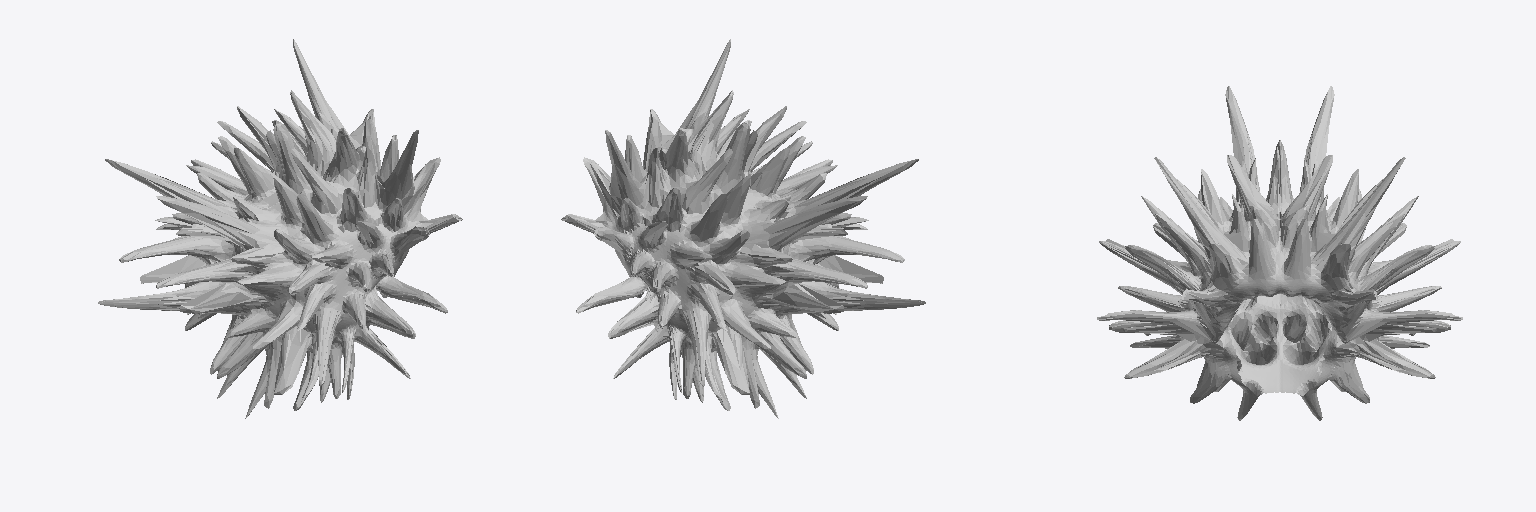
Rendered from hairgirl[hair1].obj.
3 renders of one model, left to right at view 1: azimuth 30°, elevation 25°; view 2: azimuth 150°, elevation 25°; view 3: azimuth 270°, elevation 25°, orthographic.
Visible parts, largest first — view 1: hair; view 2: hair; view 3: hair.
Part boxes in pixels (left/top/right/bottom): hair: left=98, top=39, right=462, bottom=418; hair: left=561, top=39, right=925, bottom=418; hair: left=1097, top=86, right=1462, bottom=420.
Size of the model in its own units: 18.91 by 16.81 by 18.87.